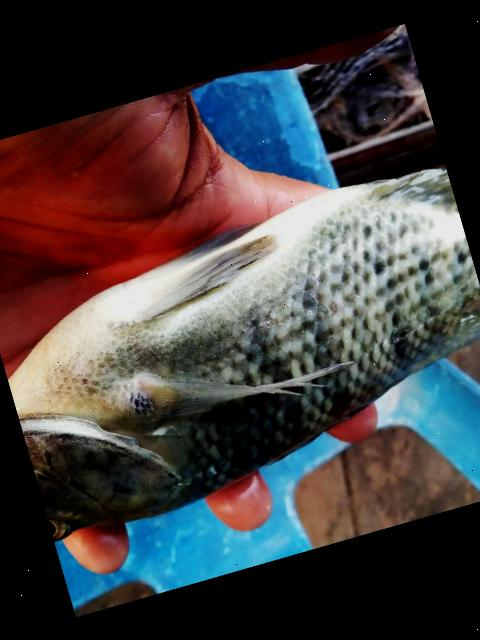Columnaris Disease: (7, 168, 480, 540), (373, 496, 378, 501)
